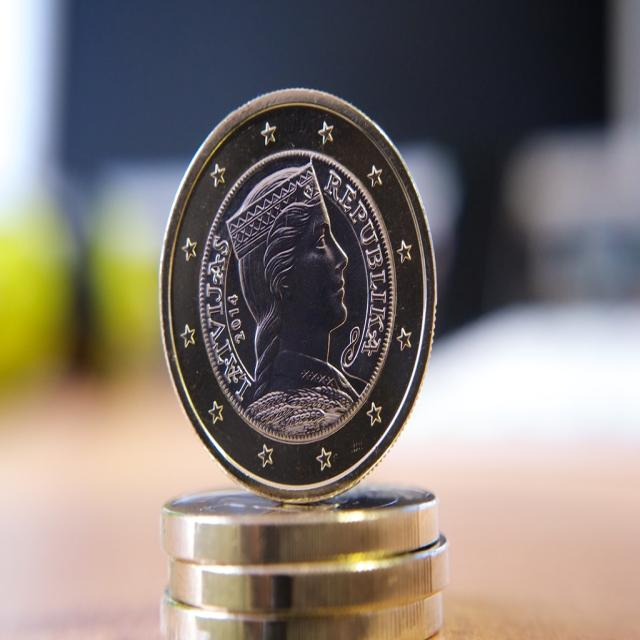Coin: (160, 86, 441, 504), (158, 486, 440, 567), (165, 549, 450, 612), (158, 609, 447, 639)
